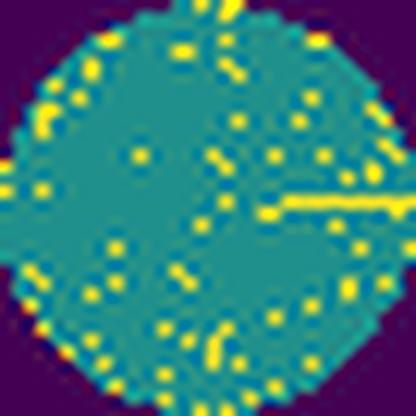Scratch: (252, 184, 416, 228)
